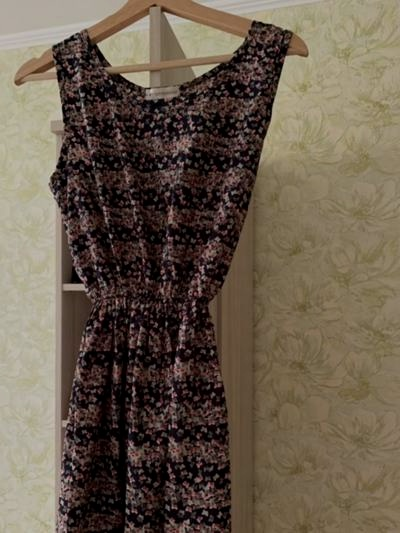Dress: (36, 14, 318, 530)
